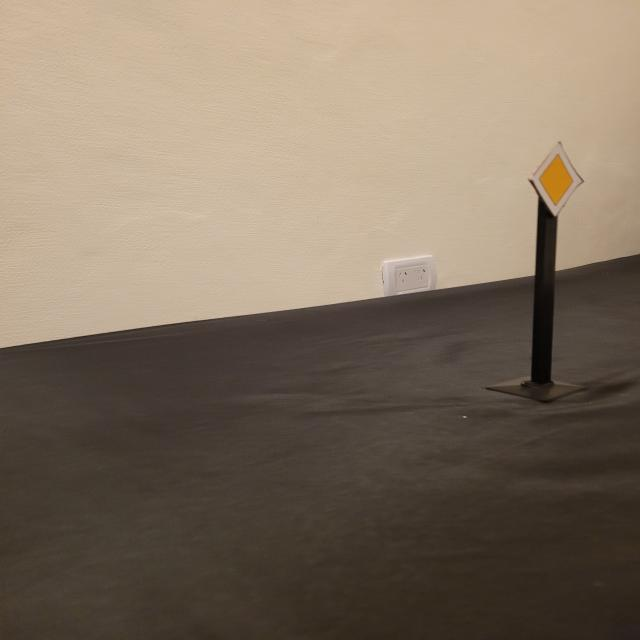priority: (527, 141, 585, 218)
